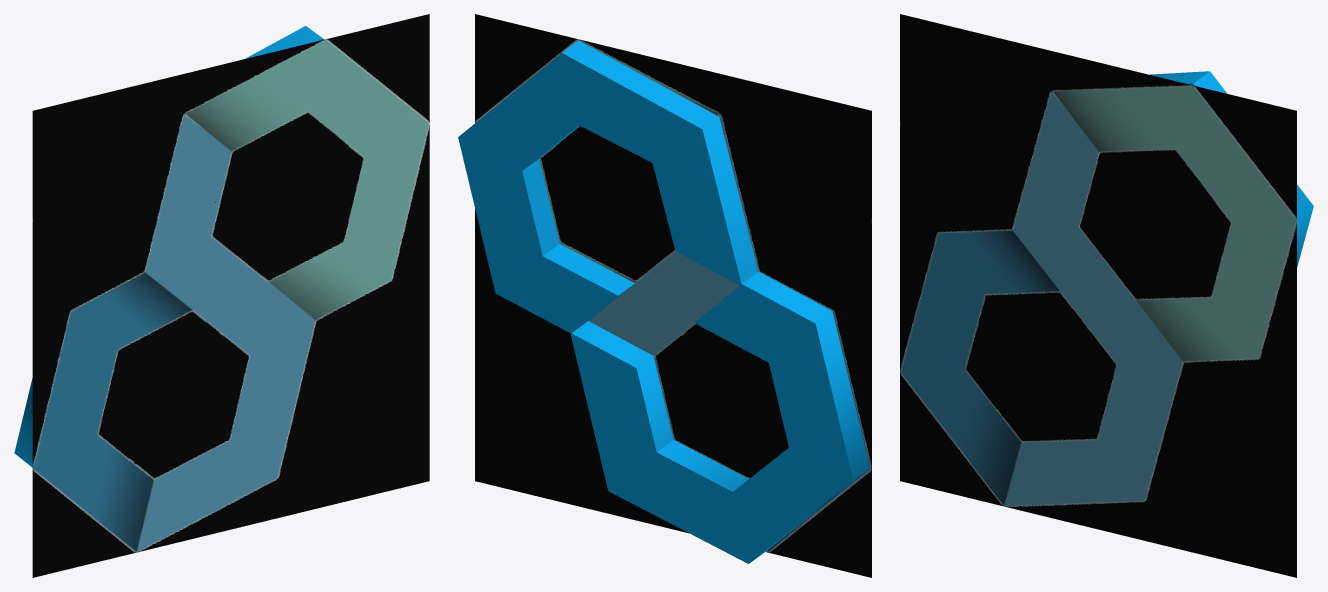
The model's file is EngDay Log.fbx.
The picture shows the model from 3 angles, left to right: view 1: azimuth 30°, elevation 25°; view 2: azimuth 150°, elevation 25°; view 3: azimuth 330°, elevation 25°; orthographic projection.
Parts seen in each view (by area): view 1: root (×3); view 2: root (×3); view 3: root (×2).
Boxes of the visible parts, x1=… form: root (×3): x1=14, y1=14, x2=429, y2=577; root (×3): x1=458, y1=14, x2=871, y2=577; root (×2): x1=900, y1=14, x2=1313, y2=577.
Size of the model in its own units: 1.36 by 1.53 by 0.1095.
Materials: 3 (1 with a texture image).
